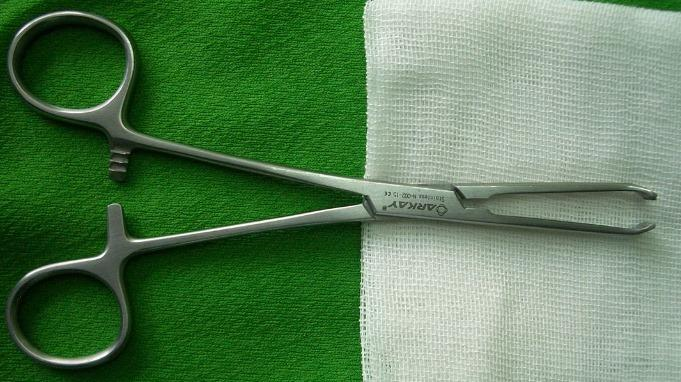Allis Forceps: (8, 8, 660, 374)
